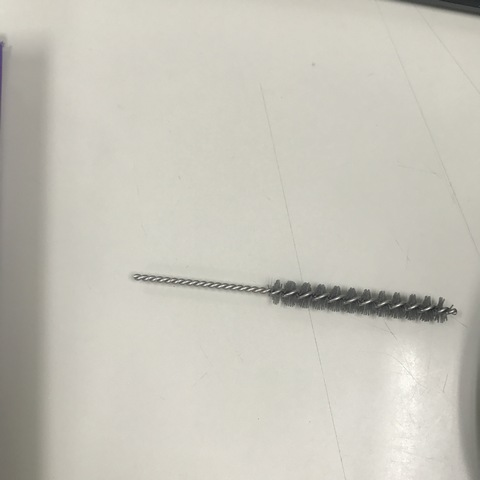Twist Brush-A: (124, 267, 462, 328)
